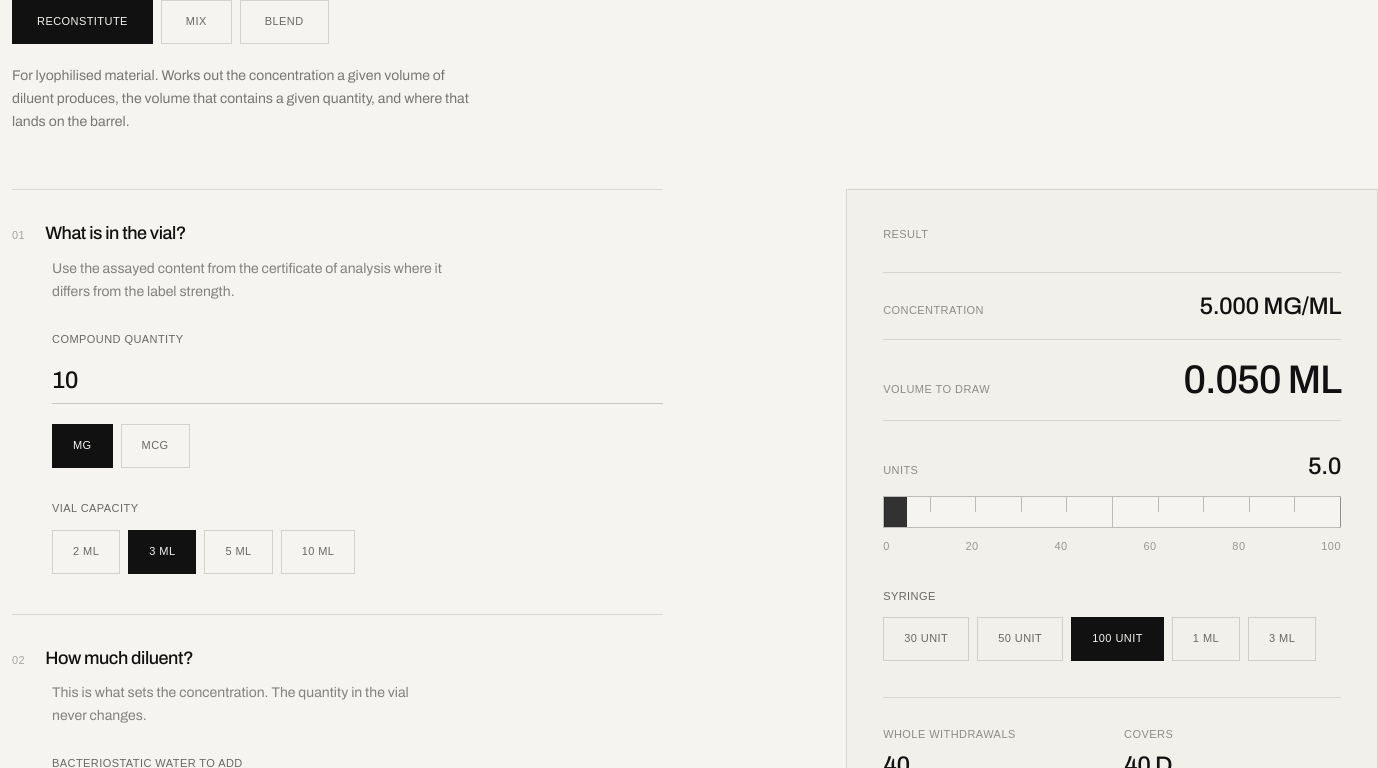
Test case: mix › adds a row
The image size is (1378, 768).
Step 1. Click the tab "Mix" → (196, 22), box x1=161 y1=0 x2=232 y2=44
(page scrolled)
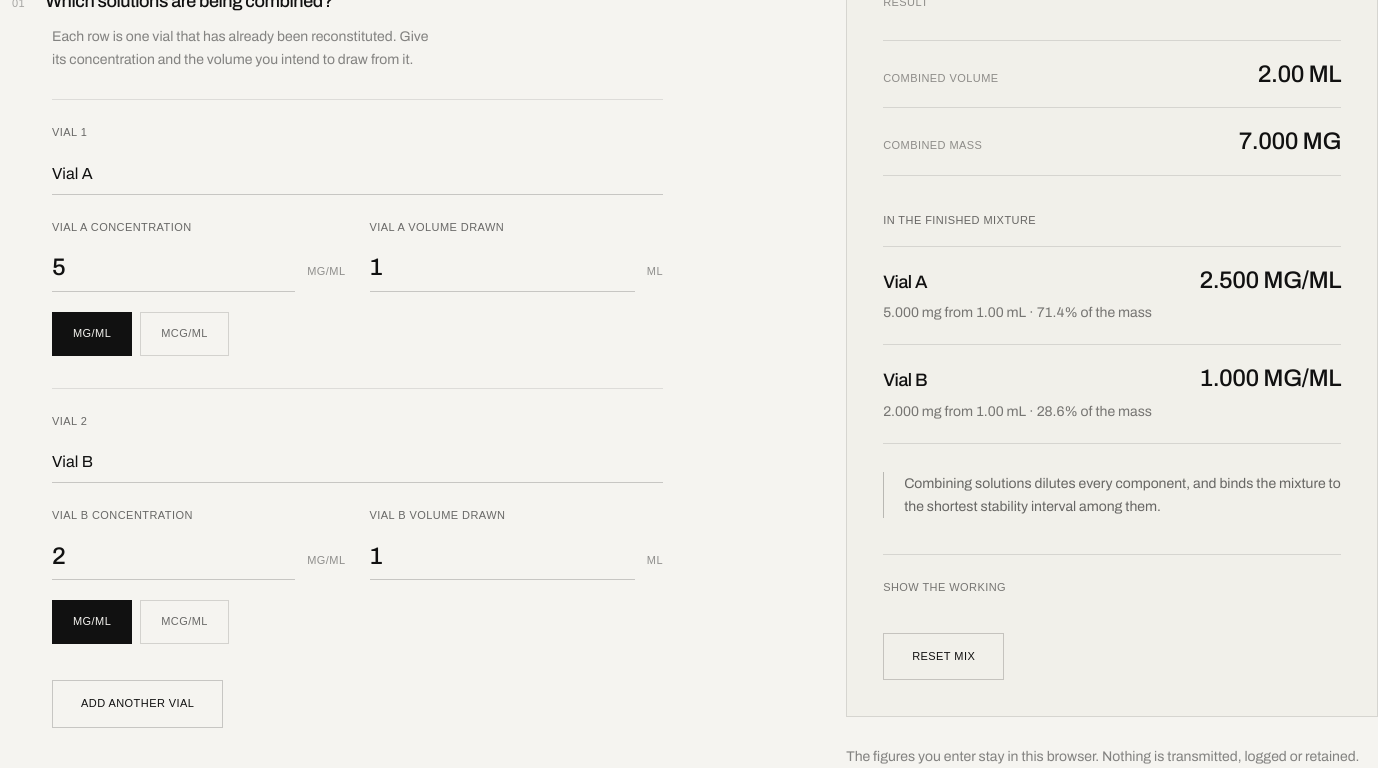
Step 2. Click the button "Add another vial" → (138, 704), box x1=52 y1=680 x2=223 y2=728
(page scrolled)
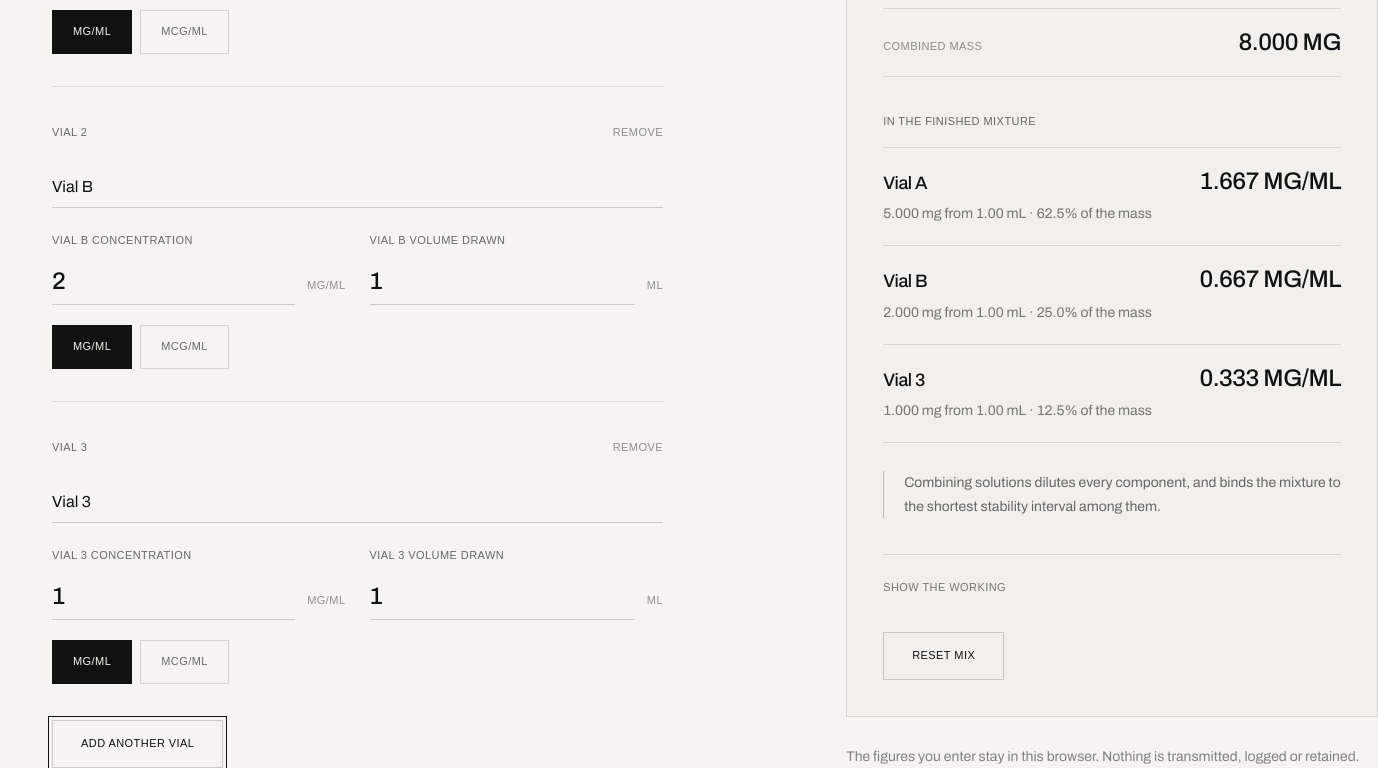
Now the field labelled "Vial 3" is shown, box x1=52 y1=482 x2=663 y2=523
